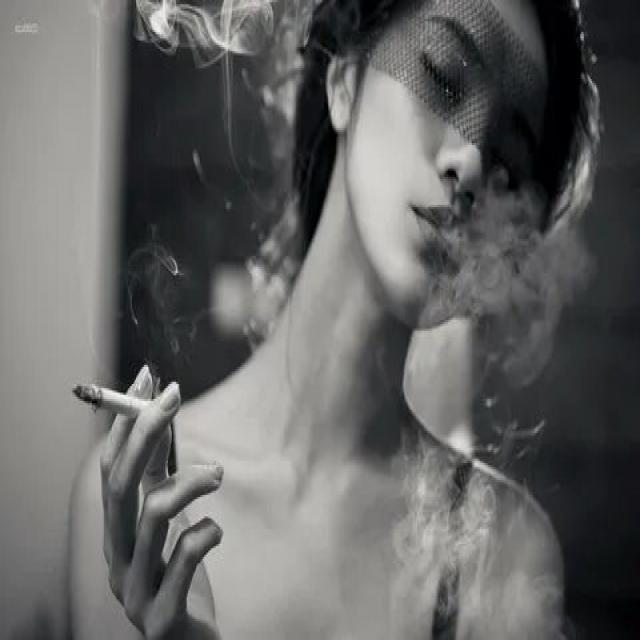cigarette: (70, 384, 166, 422)
